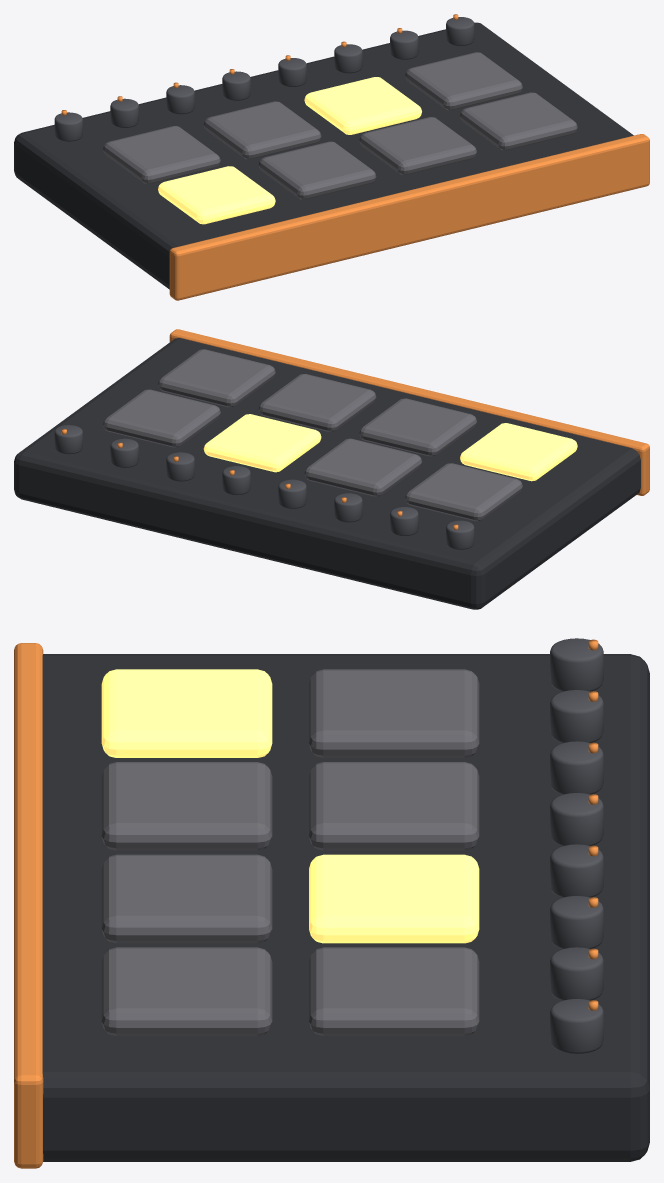
Rendered from Pulsar.glb.
The picture shows the model from 3 angles, top to bottom: view 1: azimuth 30°, elevation 25°; view 2: azimuth 150°, elevation 25°; view 3: azimuth 270°, elevation 25°; orthographic projection. The views are drawn at different scales.
Parts seen in each view (by area): view 1: Pulsar_Body, Pulsar_Trim, Pulsar_Pad11, Pulsar_Pad00, Pulsar_Pad10, Pulsar_Pad20, Pulsar_Pad30, Pulsar_Pad31, Pulsar_Pad01, Pulsar_Pad21, Pulsar_Knob6, Pulsar_Knob3 (+6 smaller); view 2: Pulsar_Body, Pulsar_Trim, Pulsar_Pad30, Pulsar_Pad31, Pulsar_Pad10, Pulsar_Pad21, Pulsar_Pad00, Pulsar_Pad01, Pulsar_Pad11, Pulsar_Pad20, Pulsar_Knob2, Pulsar_Knob5 (+6 smaller); view 3: Pulsar_Body, Pulsar_Trim, Pulsar_Pad20, Pulsar_Pad21, Pulsar_Pad10, Pulsar_Pad00, Pulsar_Pad30, Pulsar_Pad11, Pulsar_Pad01, Pulsar_Pad31, Pulsar_Knob7, Pulsar_Knob0 (+6 smaller).
Part boxes in pixels (x1=…): Pulsar_Body: x1=14, y1=22, x2=633, y2=289; Pulsar_Trim: x1=169, y1=134, x2=649, y2=300; Pulsar_Pad11: x1=203, y1=101, x2=321, y2=159; Pulsar_Pad00: x1=158, y1=166, x2=275, y2=224; Pulsar_Pad10: x1=258, y1=141, x2=376, y2=199; Pulsar_Pad20: x1=359, y1=117, x2=476, y2=175; Pulsar_Pad30: x1=460, y1=92, x2=577, y2=150; Pulsar_Pad31: x1=405, y1=52, x2=522, y2=110; Pulsar_Pad01: x1=103, y1=126, x2=220, y2=183; Pulsar_Pad21: x1=304, y1=77, x2=421, y2=134; Pulsar_Knob6: x1=390, y1=30, x2=418, y2=59; Pulsar_Knob3: x1=222, y1=71, x2=250, y2=100; Pulsar_Body: x1=14, y1=338, x2=640, y2=609; Pulsar_Trim: x1=169, y1=329, x2=649, y2=495; Pulsar_Pad30: x1=158, y1=349, x2=275, y2=407; Pulsar_Pad31: x1=103, y1=389, x2=220, y2=447; Pulsar_Pad10: x1=359, y1=398, x2=476, y2=456; Pulsar_Pad21: x1=203, y1=414, x2=321, y2=472; Pulsar_Pad00: x1=460, y1=423, x2=577, y2=481; Pulsar_Pad01: x1=405, y1=463, x2=522, y2=521; Pulsar_Pad11: x1=304, y1=438, x2=421, y2=496; Pulsar_Pad20: x1=258, y1=374, x2=376, y2=431; Pulsar_Knob2: x1=334, y1=493, x2=362, y2=522; Pulsar_Knob5: x1=166, y1=452, x2=194, y2=481; Pulsar_Body: x1=42, y1=654, x2=649, y2=1161; Pulsar_Trim: x1=14, y1=643, x2=43, y2=1168; Pulsar_Pad20: x1=101, y1=854, x2=272, y2=943; Pulsar_Pad21: x1=309, y1=854, x2=479, y2=943; Pulsar_Pad10: x1=101, y1=762, x2=272, y2=850; Pulsar_Pad00: x1=101, y1=669, x2=272, y2=757; Pulsar_Pad30: x1=101, y1=947, x2=272, y2=1035; Pulsar_Pad11: x1=309, y1=762, x2=479, y2=850; Pulsar_Pad01: x1=309, y1=669, x2=479, y2=757; Pulsar_Pad31: x1=309, y1=947, x2=479, y2=1035; Pulsar_Knob7: x1=550, y1=999, x2=603, y2=1053; Pulsar_Knob0: x1=550, y1=638, x2=603, y2=691.
Bounding box in the file's own units: 0.425 × 0.059 × 0.261.
